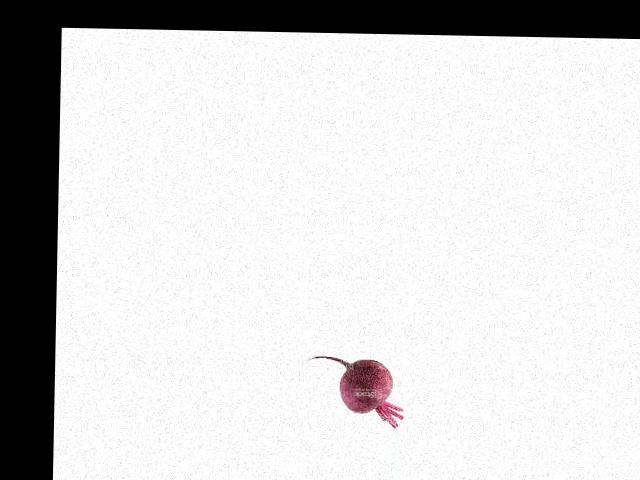beet: (305, 356, 404, 428)
